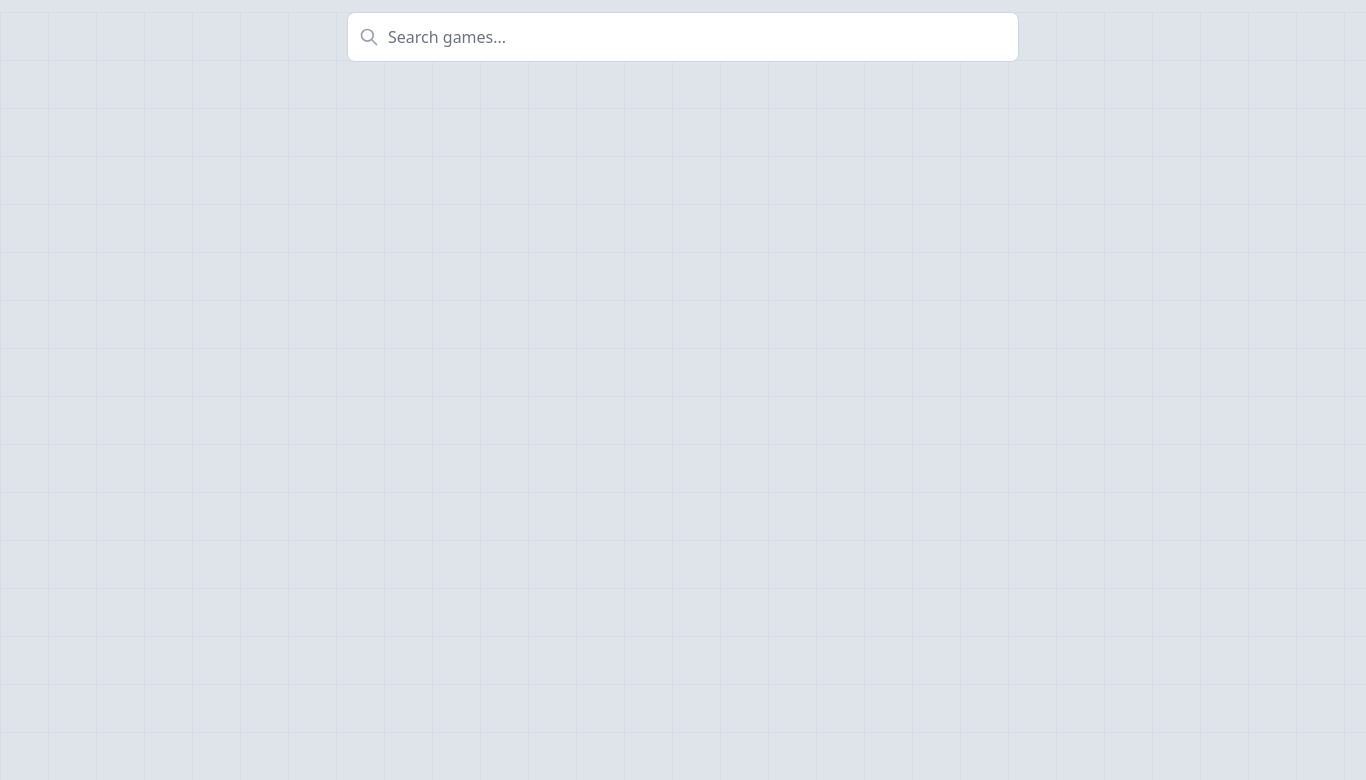
Scenario: SearchBar › shows clear button when text is entered
Type something
In the field labelled "Search games...": point(683, 37) [347,12,1019,62], type "test"
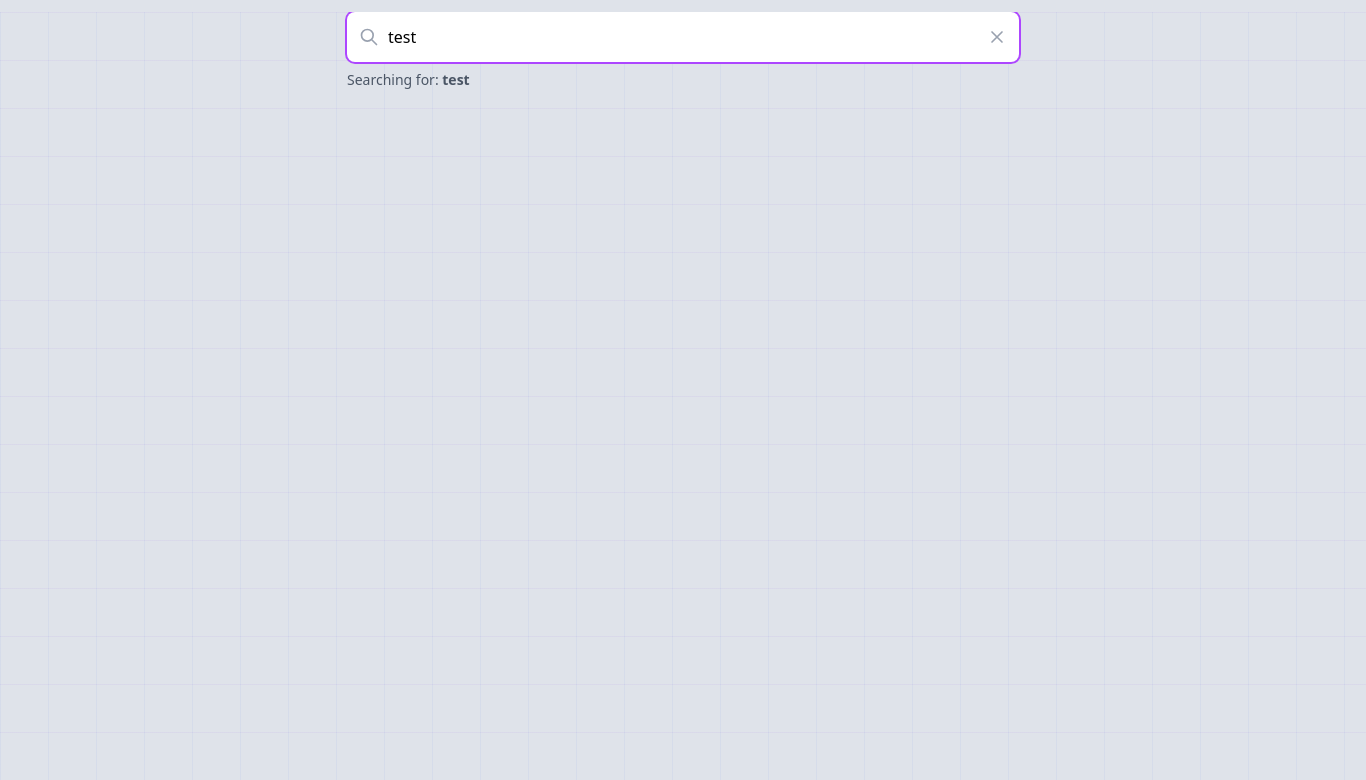
Expected: the button named "Clear search" is shown, [987,12,1019,62]
